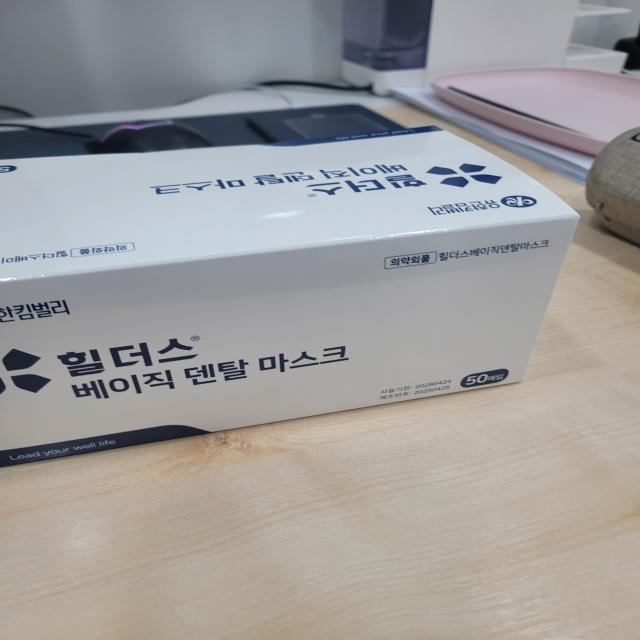mask: (0, 112, 583, 458)
